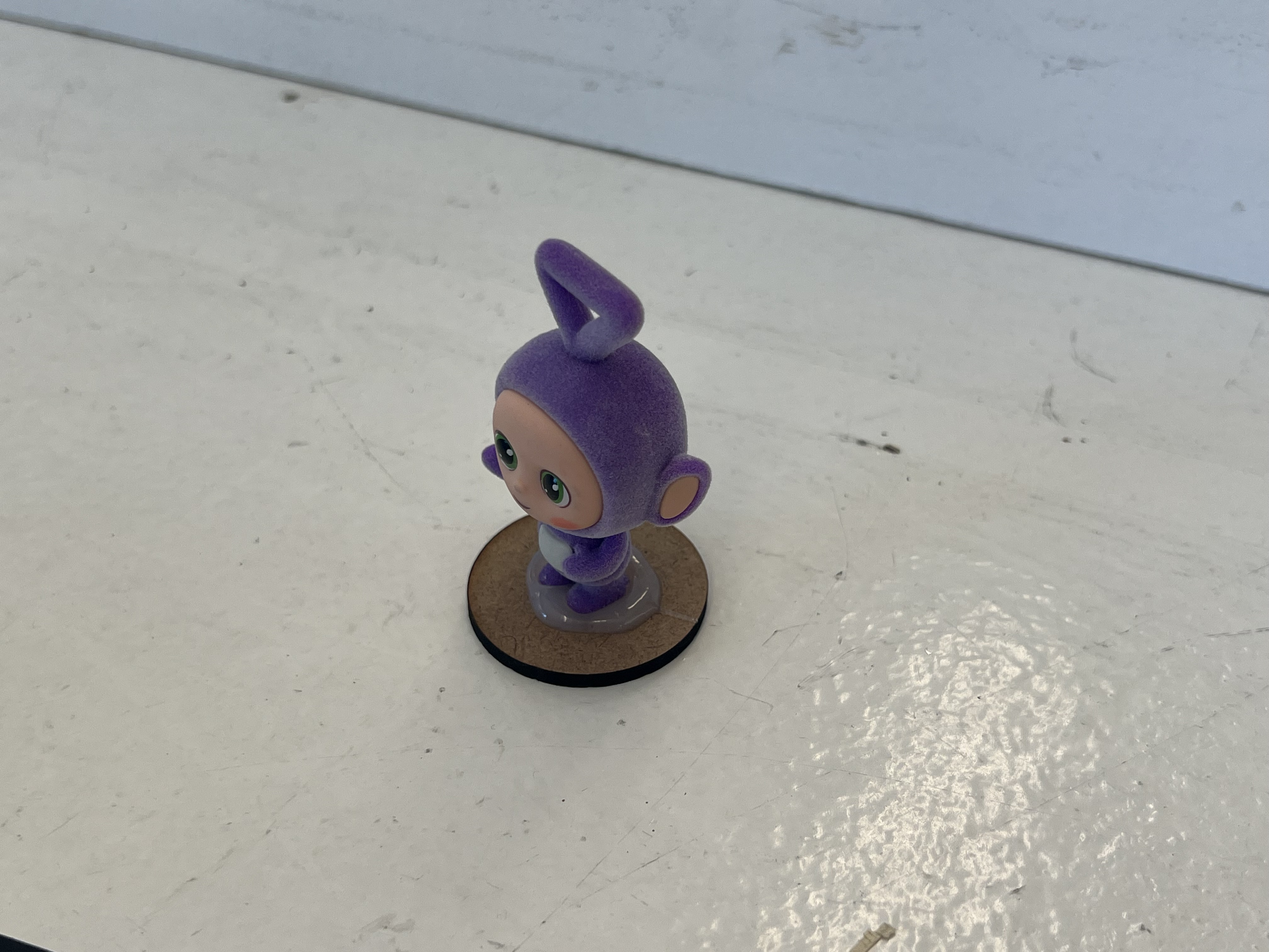teletubby: (482, 239, 711, 612)
